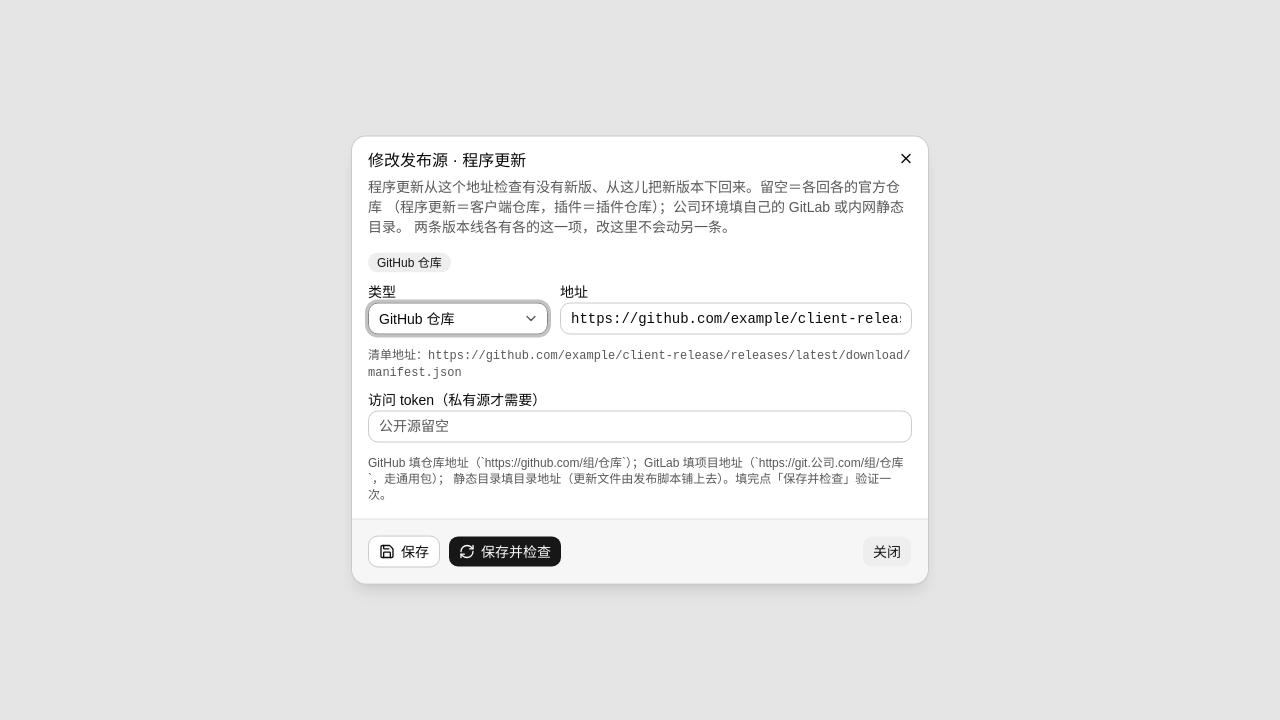
Scenario: SourceDialog › 按现状预填，点保存并检查先存后验，并把结果回报给外层
Expected: the dropdown named "发布源类型" reads "GitHub 仓库", [368,302,548,334]
Replace the text in the field labelled "地址" with "https://git.example.com/team/gui" at [736, 318], box [560,302,912,334]
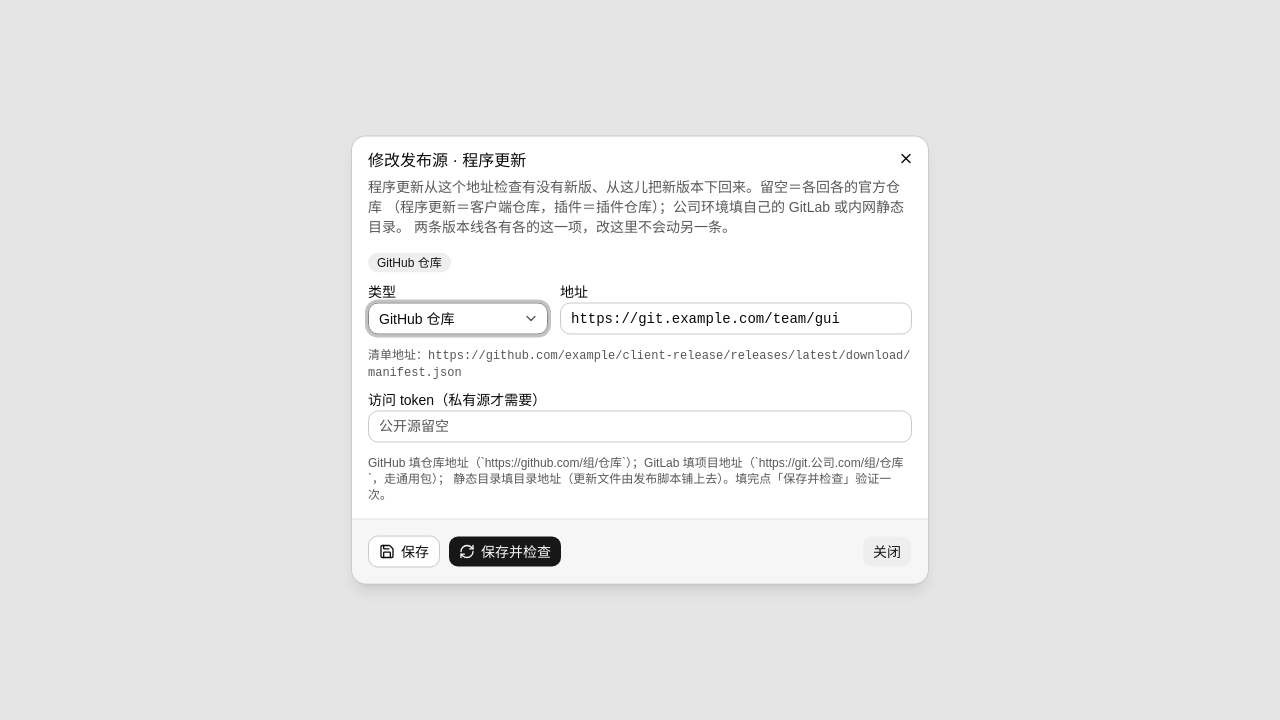
Click the button "保存并检查" at [505, 552], box [448,536,562,568]
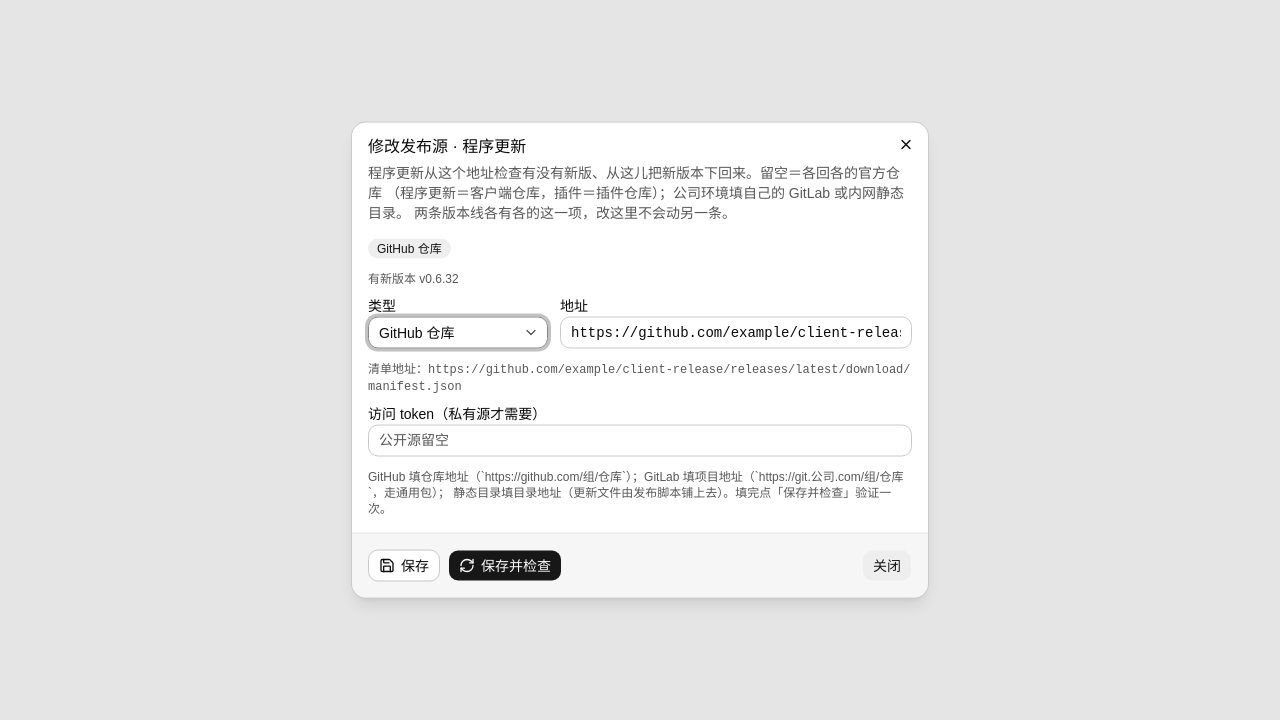
Expected: the text "有新版本 v0.6.32" is shown, [368,272,459,286]
